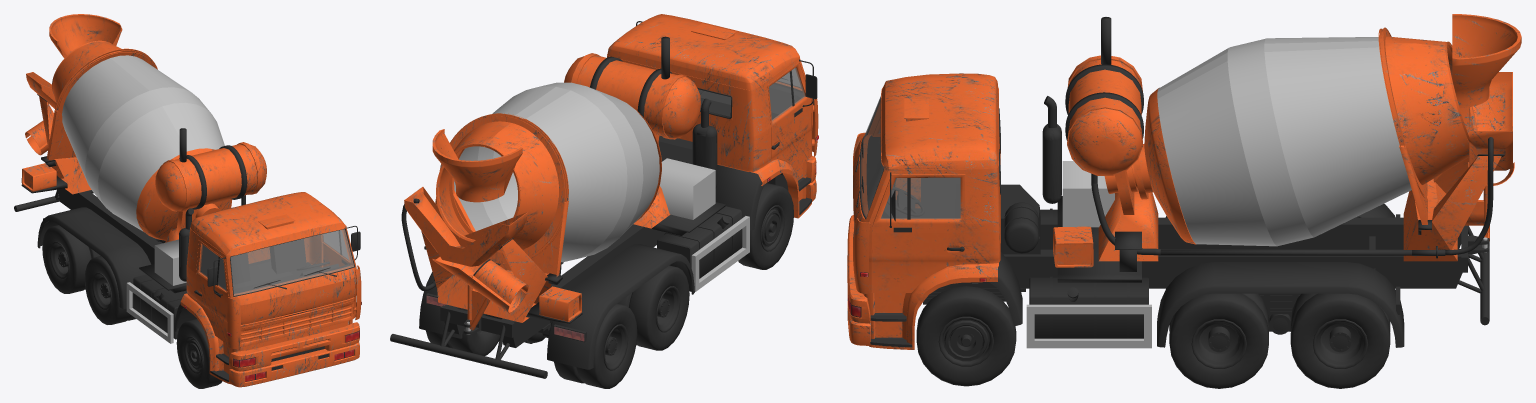
Rendered from guanche.FBX.
The picture shows the model from 3 angles, left to right: view 1: azimuth 30°, elevation 25°; view 2: azimuth 150°, elevation 25°; view 3: azimuth 270°, elevation 25°; orthographic projection. The views are drawn at different scales.
Visible parts, largest first — view 1: guangche; view 2: guangche; view 3: guangche.
Part boxes in pixels (x1=…): guangche: x1=14, y1=14, x2=361, y2=388; guangche: x1=390, y1=14, x2=818, y2=388; guangche: x1=847, y1=14, x2=1521, y2=388.
Bounding box in the file's own units: 379 × 508 × 1014.
Materials: 5 (4 with a texture image).
